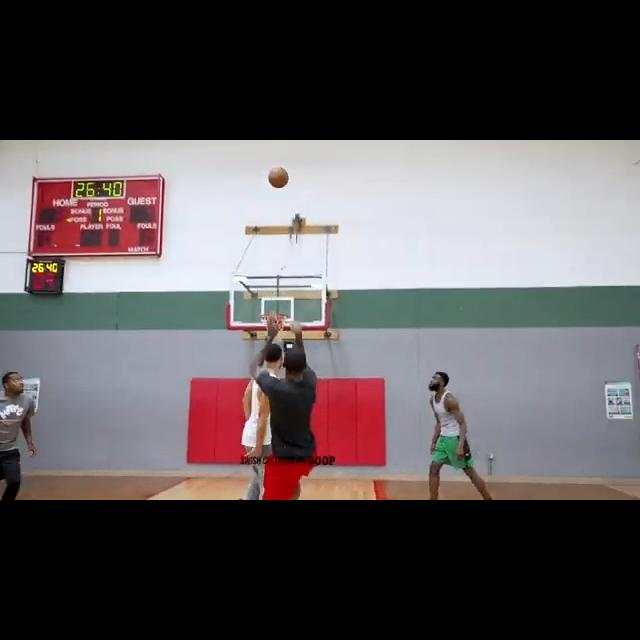basketball: (268, 166, 289, 189)
hoop: (262, 314, 288, 335)
person: (251, 352, 320, 500), (422, 369, 495, 500), (243, 344, 295, 500), (0, 371, 36, 500)
